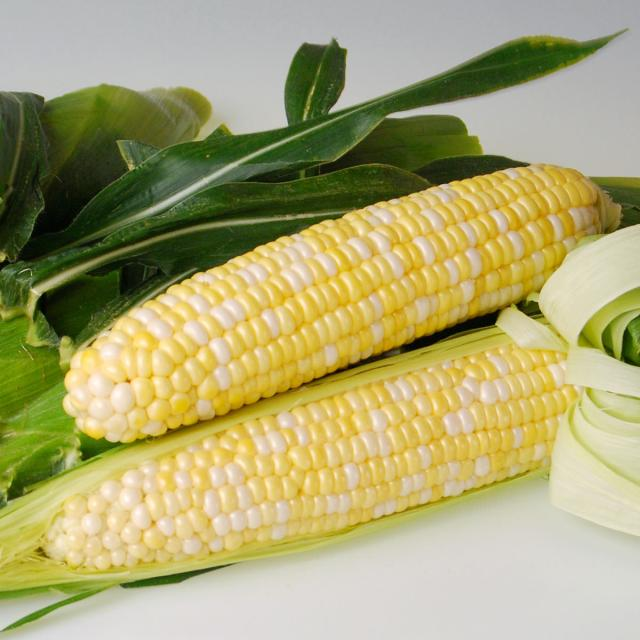corn: (17, 164, 621, 448), (31, 335, 608, 601)
